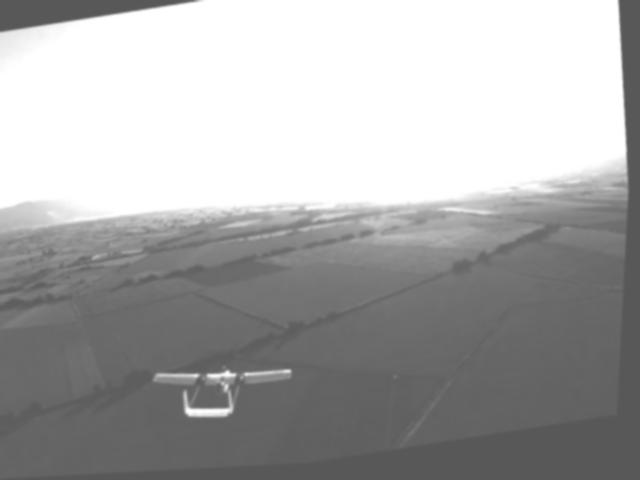hedef: (150, 347, 308, 436)
